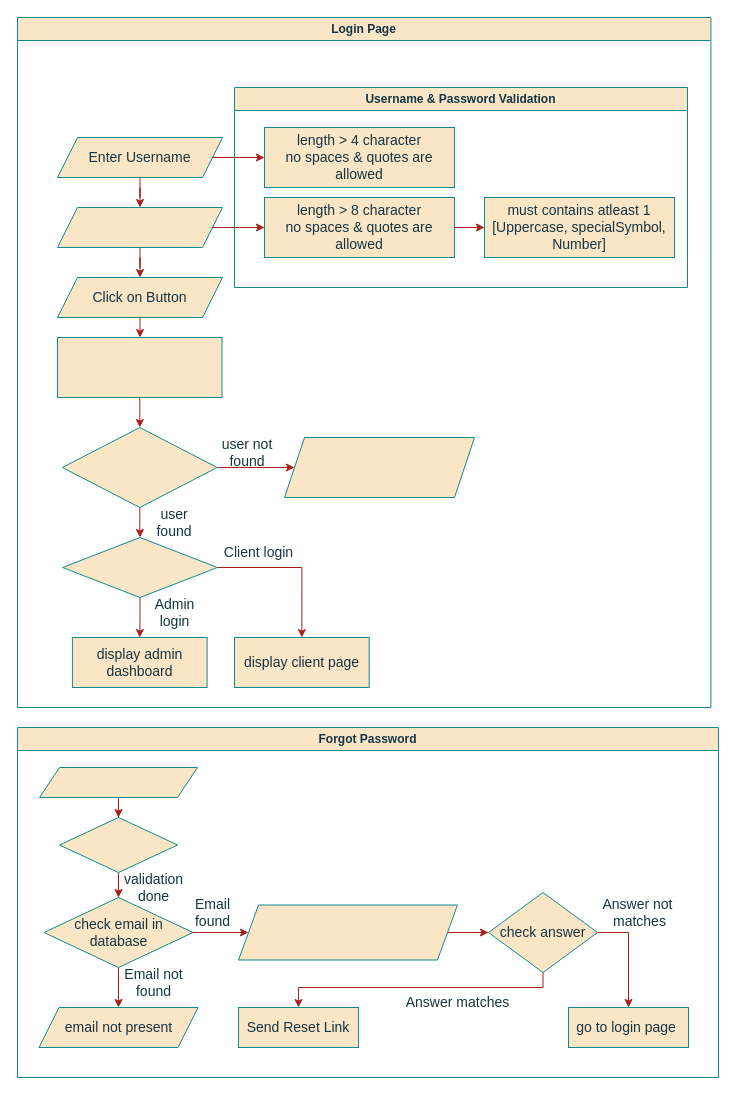
Image size: 736x1095. Some labels were removed from this diagram. The centre of each missing label's shape, as x and y in pixels:
check role: the point at 139,567
check user credentilas: the point at 139,467
Display security Question & ask to enter answer: the point at 348,932
Enter Email: the point at 118,782
Enter Password: the point at 139,227
Get username, Password & role from database: the point at 139,367
Go to login page and shoe invalid credentials message: the point at 379,467
validate Email: the point at 118,844
